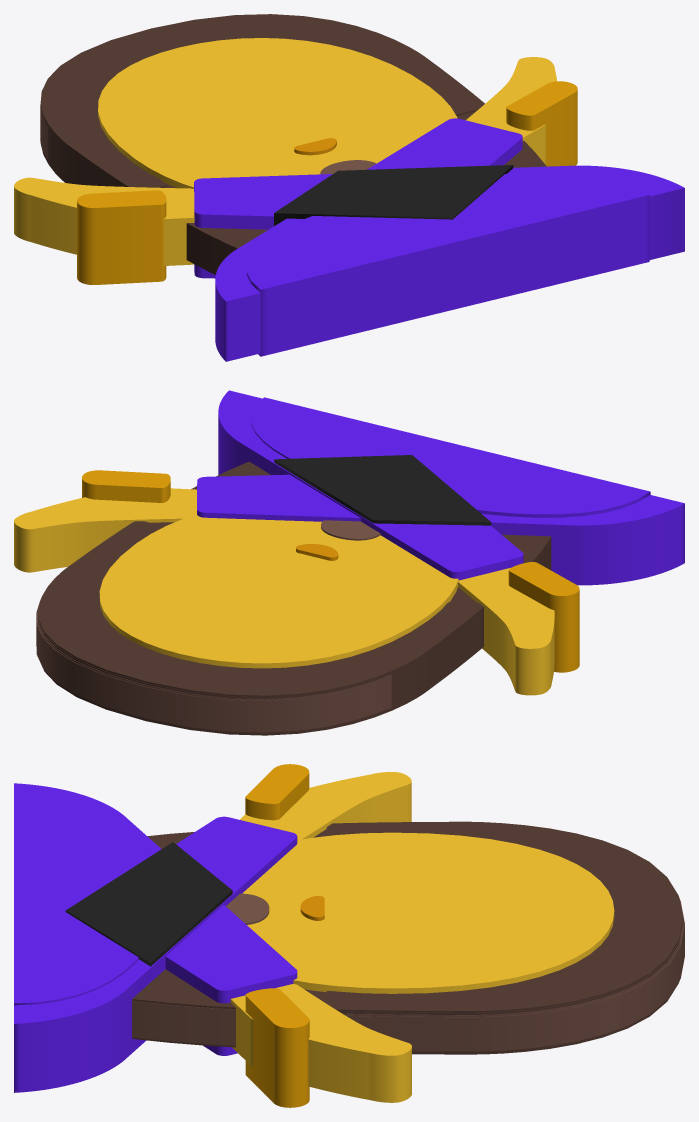
Rendered from emoji_u1f645_200d_2640.glb.
The picture shows the model from 3 angles, top to bottom: view 1: azimuth 30°, elevation 25°; view 2: azimuth 150°, elevation 25°; view 3: azimuth 270°, elevation 25°; orthographic projection. The views are drawn at different scales.
Visible parts, largest first — view 1: emoji_u1f645_200d_2640; view 2: emoji_u1f645_200d_2640; view 3: emoji_u1f645_200d_2640.
Boxes of the visible parts, left/top/right/bottom form: emoji_u1f645_200d_2640: left=14, top=14, right=684, bottom=361; emoji_u1f645_200d_2640: left=14, top=390, right=684, bottom=735; emoji_u1f645_200d_2640: left=14, top=764, right=684, bottom=1107.
Size of the model in its own units: 0.0334 by 0.0046 by 0.0335.
